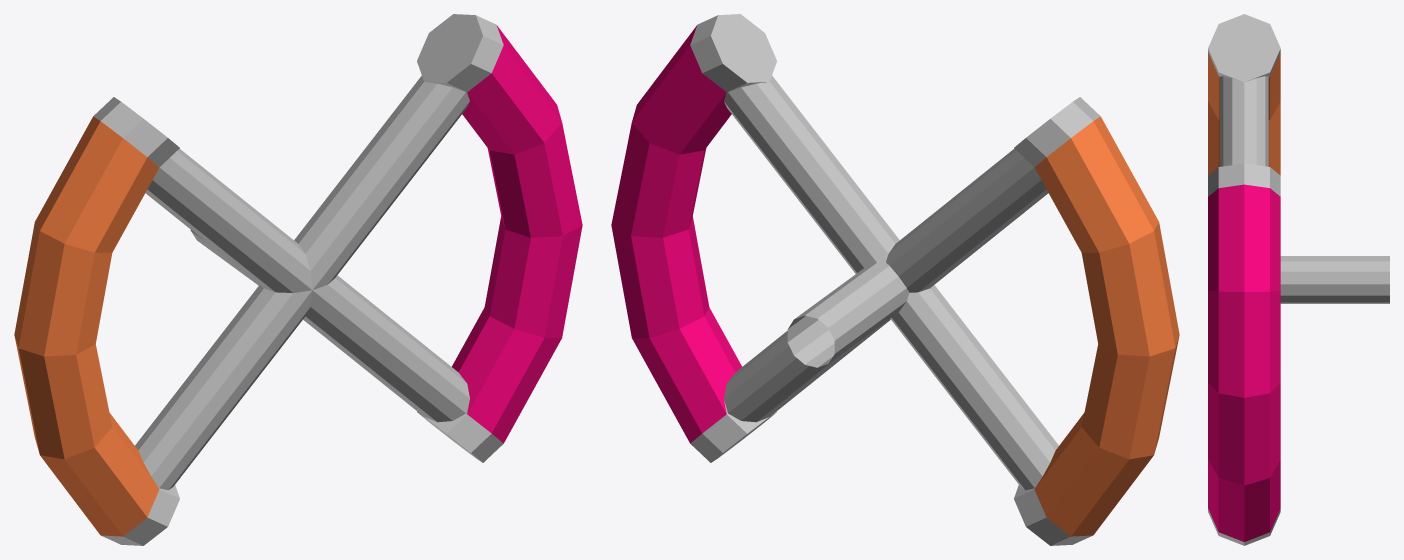
Rendered from rad2.obj.
3 renders of one model, left to right at view 1: azimuth 30°, elevation 25°; view 2: azimuth 150°, elevation 25°; view 3: azimuth 270°, elevation 25°, orthographic. The views are drawn at different scales.
Parts seen in each view (by area): view 1: rad2; view 2: rad2; view 3: rad2.
Boxes of the visible parts, left/top/right/bottom form: rad2: left=14, top=14, right=582, bottom=545; rad2: left=611, top=14, right=1179, bottom=545; rad2: left=1208, top=14, right=1389, bottom=545.
Size of the model in its own units: 0.46 by 0.3479 by 0.15.
